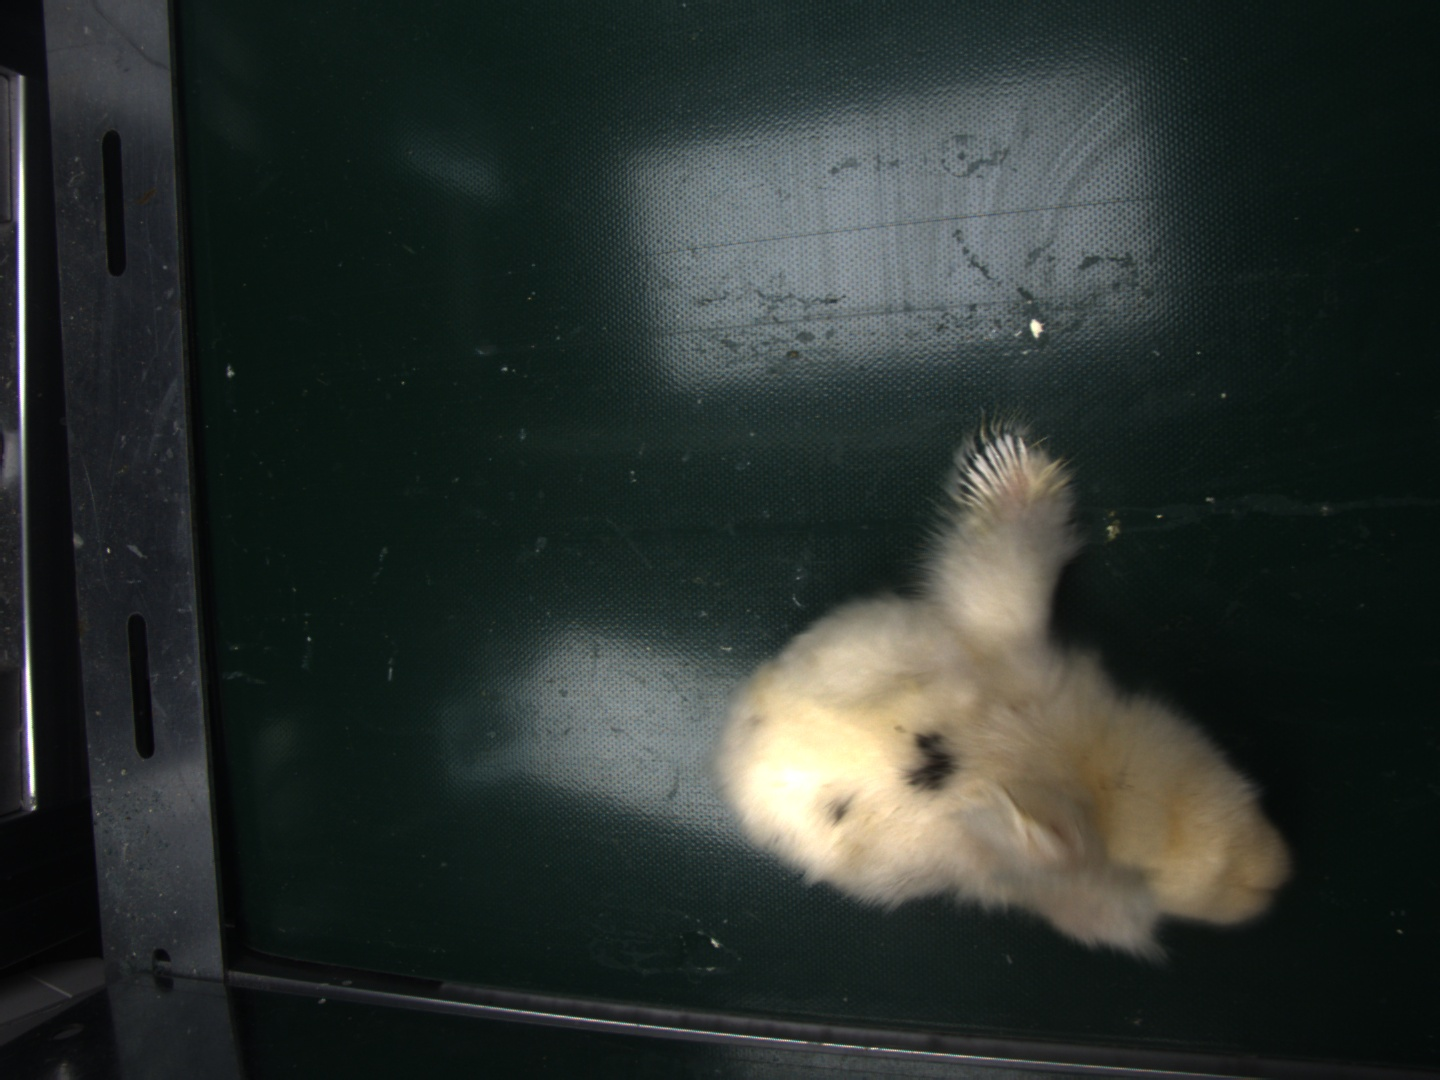male: (956, 433, 1043, 511)
